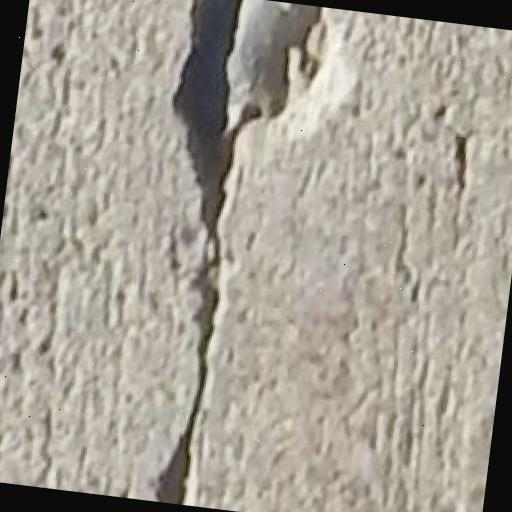spalling: (123, 0, 358, 505)
